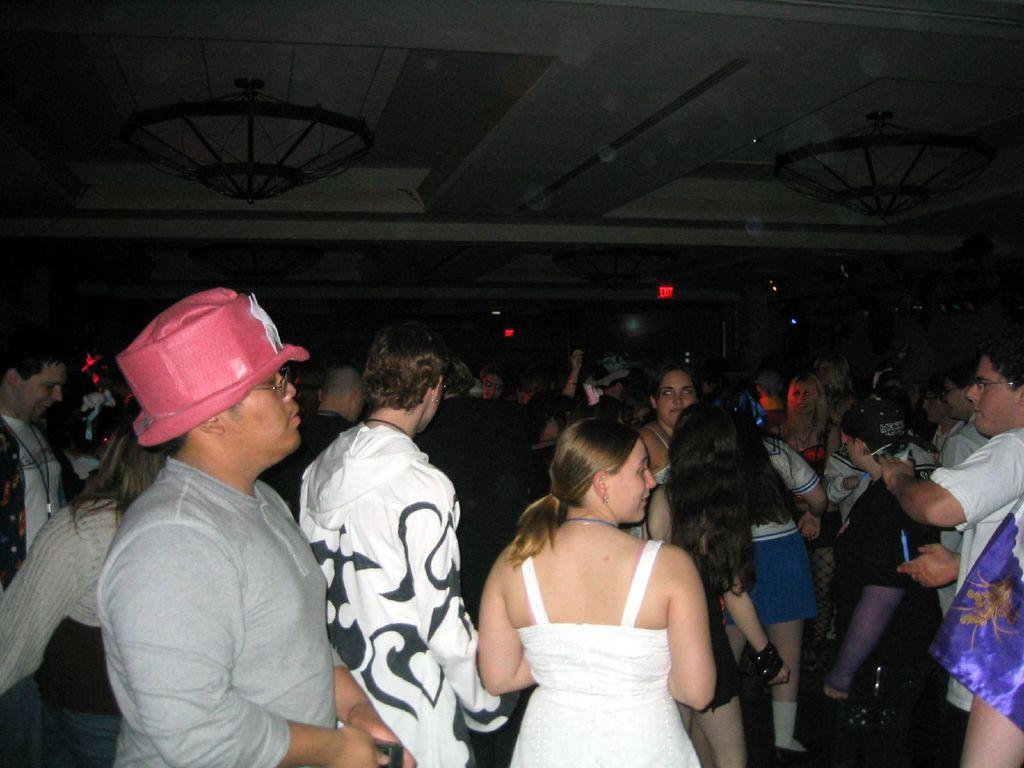Hat: (115, 285, 307, 446)
